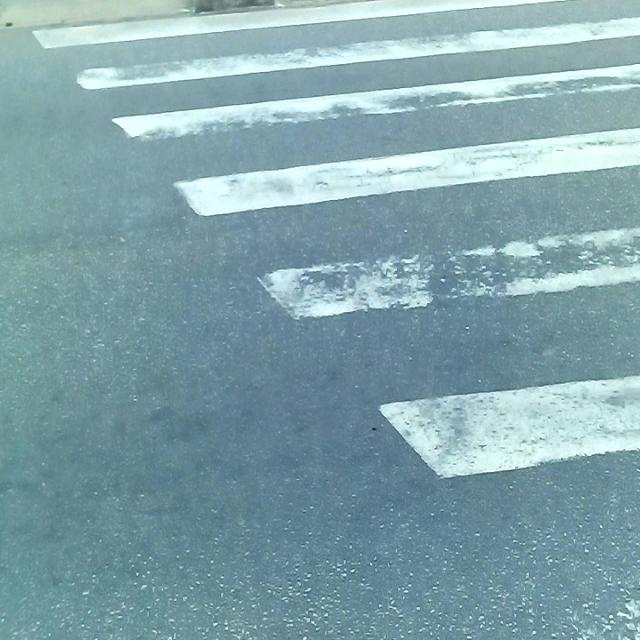crosswalk: (28, 0, 640, 640)
